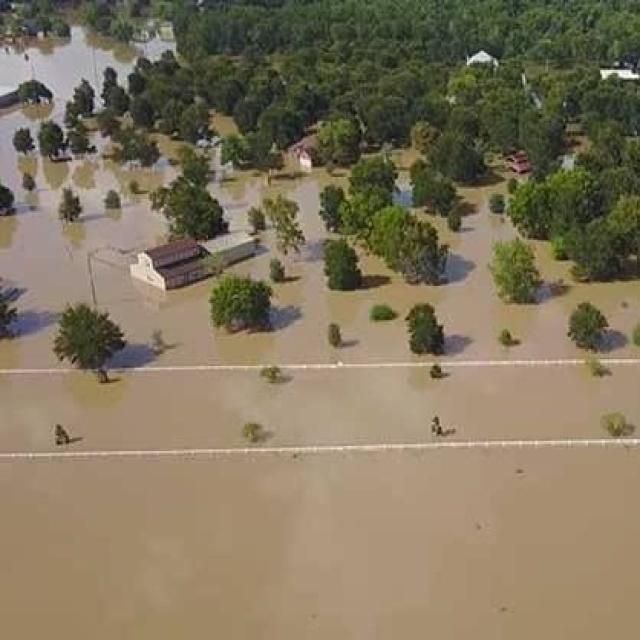flooded_areas: (6, 41, 639, 538)
